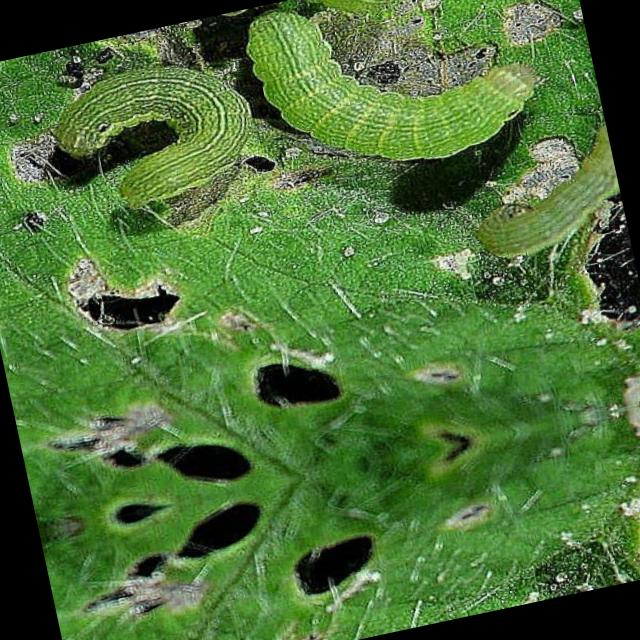Armyworm: (225, 1, 544, 195), (49, 33, 283, 219), (452, 92, 634, 289)
Armyworm_damage: (223, 311, 372, 443), (261, 513, 415, 626), (44, 268, 206, 353), (167, 488, 274, 573), (149, 431, 267, 503), (100, 489, 187, 538)
